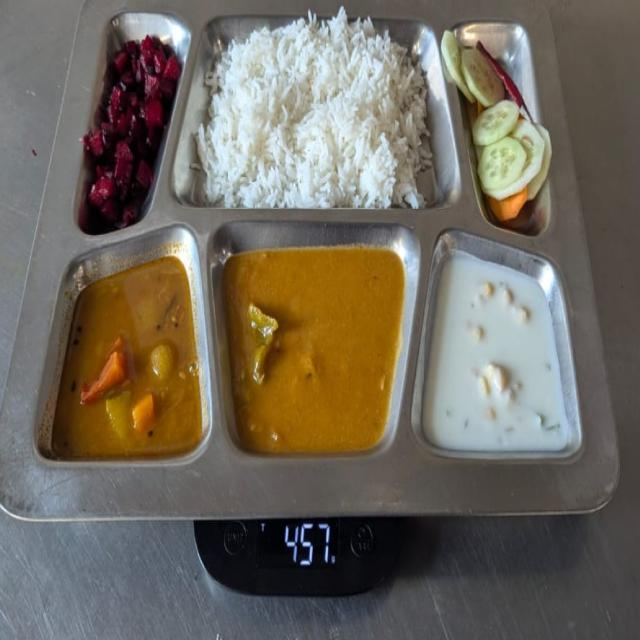Paneer Curry: (220, 238, 407, 458)
Raita: (422, 253, 572, 453)
Salad: (442, 29, 553, 226), (80, 36, 177, 233)
Sambhar: (57, 247, 204, 459)
White Rice: (198, 16, 432, 214)
